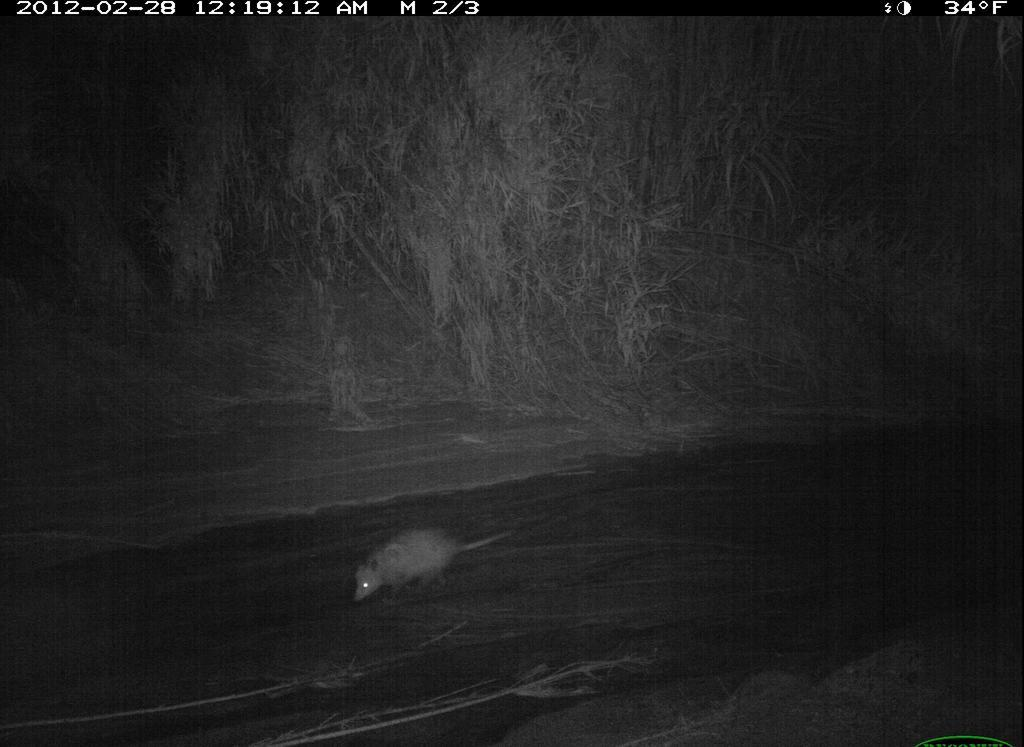opossum: (349, 516, 530, 614)
